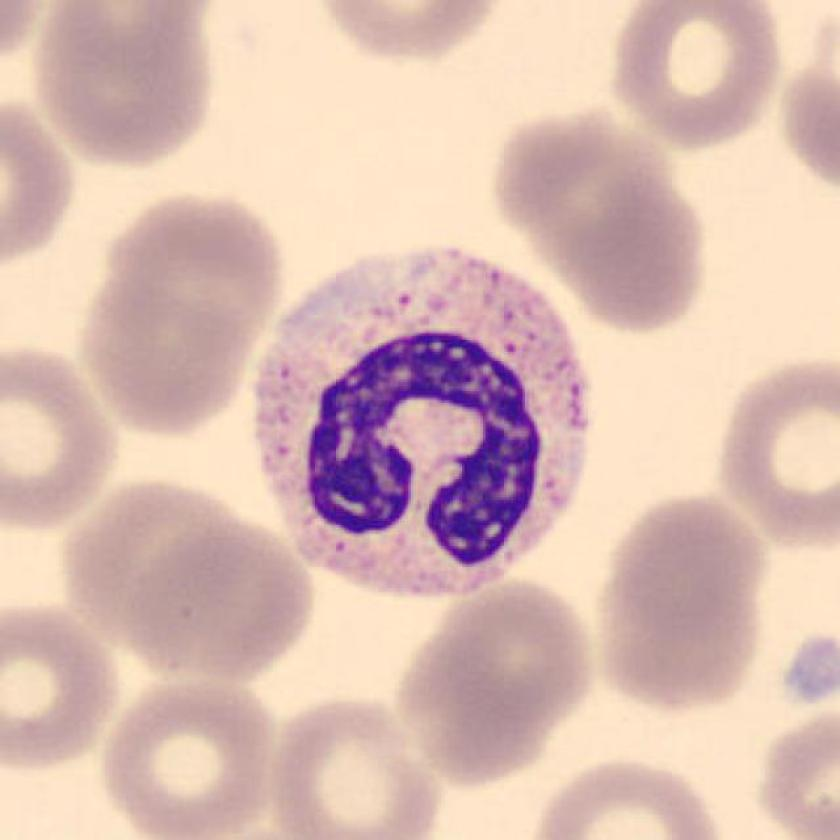neutrophil: (256, 247, 593, 592)
